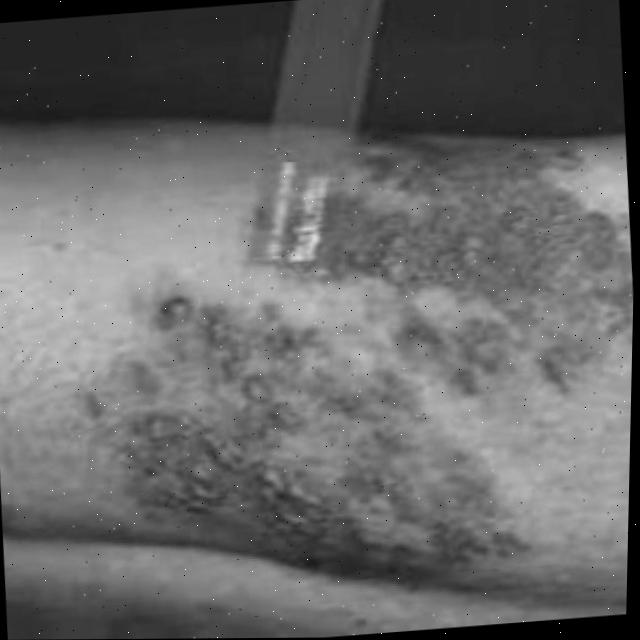Shingles: (64, 254, 539, 609), (245, 105, 638, 407)
